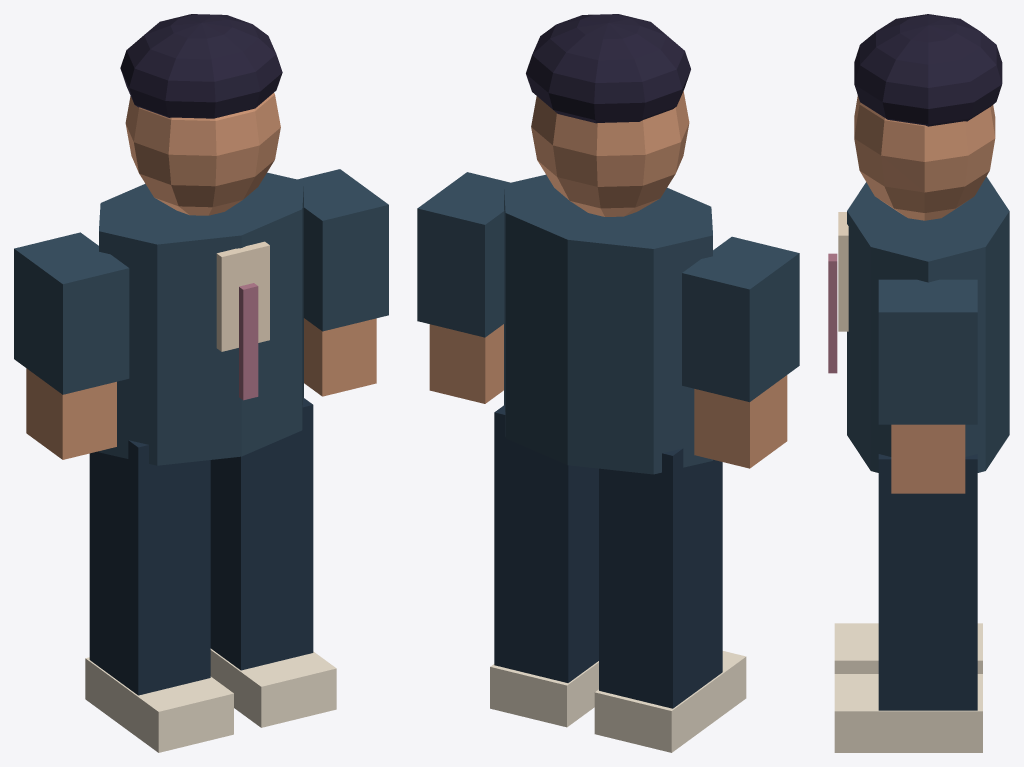
Rendered from character-office-worker.obj.
3 renders of one model, left to right at view 1: azimuth 30°, elevation 25°; view 2: azimuth 150°, elevation 25°; view 3: azimuth 270°, elevation 25°, orthographic.
Visible parts, largest first — view 1: character-office-worker; view 2: character-office-worker; view 3: character-office-worker.
Boxes of the visible parts, box(x1,y1,x2,y2) form: character-office-worker: box(14, 14, 388, 752); character-office-worker: box(417, 14, 799, 752); character-office-worker: box(828, 14, 1009, 752).
Size of the model in its own units: 1.08 by 2.14 by 0.5125.
